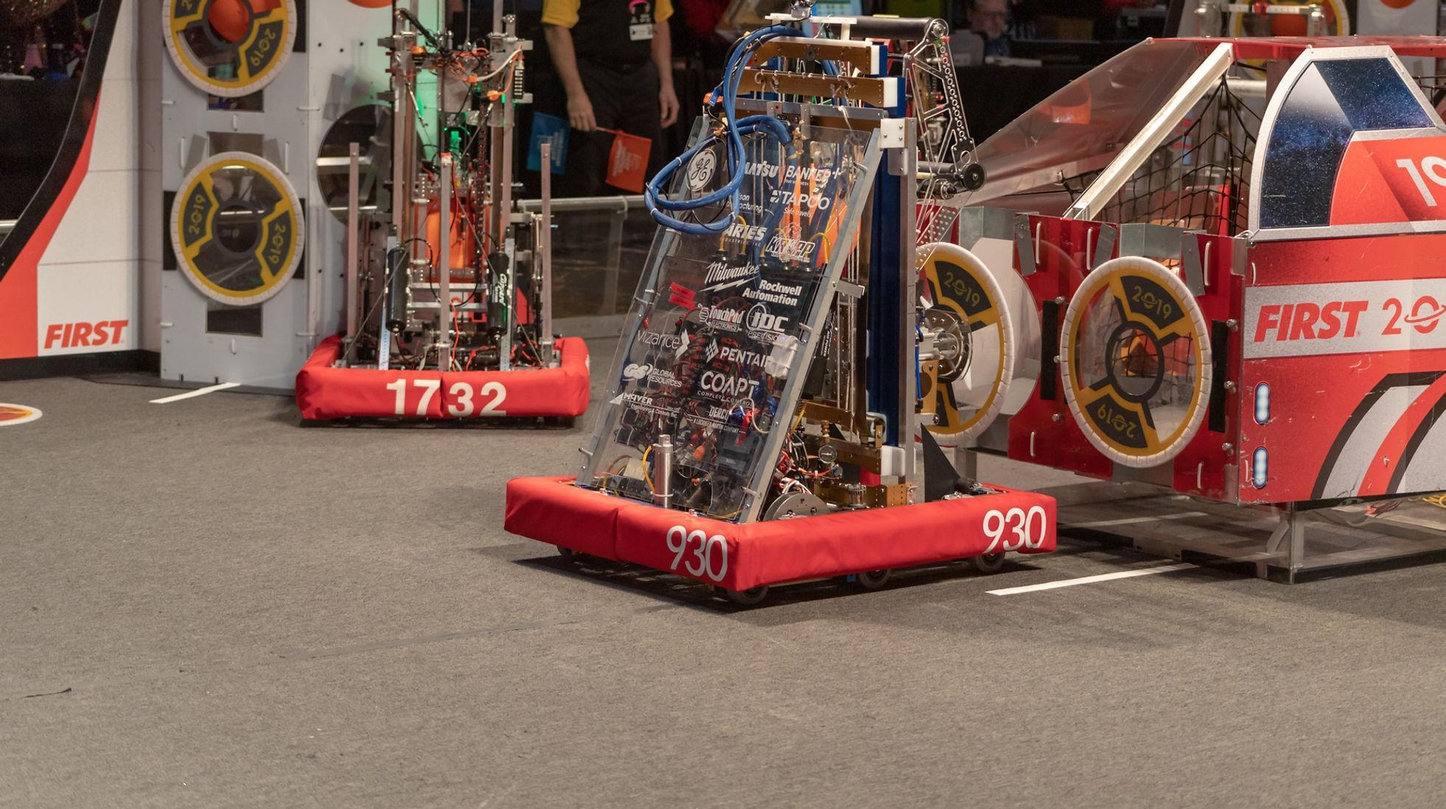robot: (496, 0, 1065, 604), (285, 0, 596, 430)
